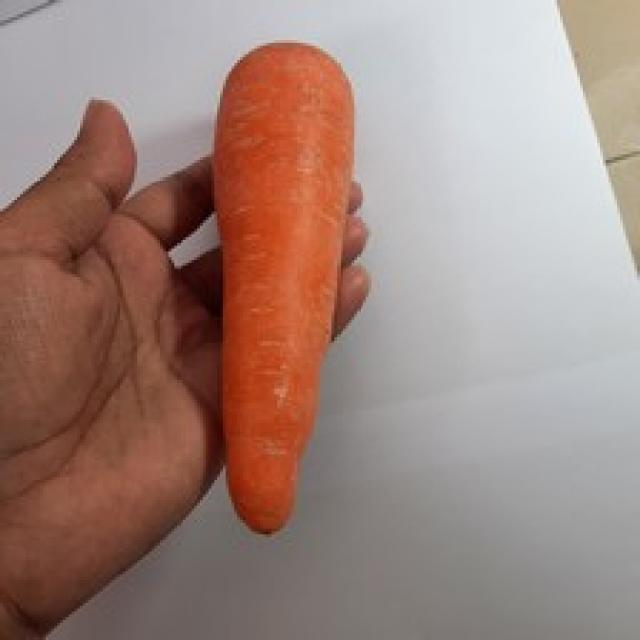Fresh_Carrot: (192, 29, 348, 610)
